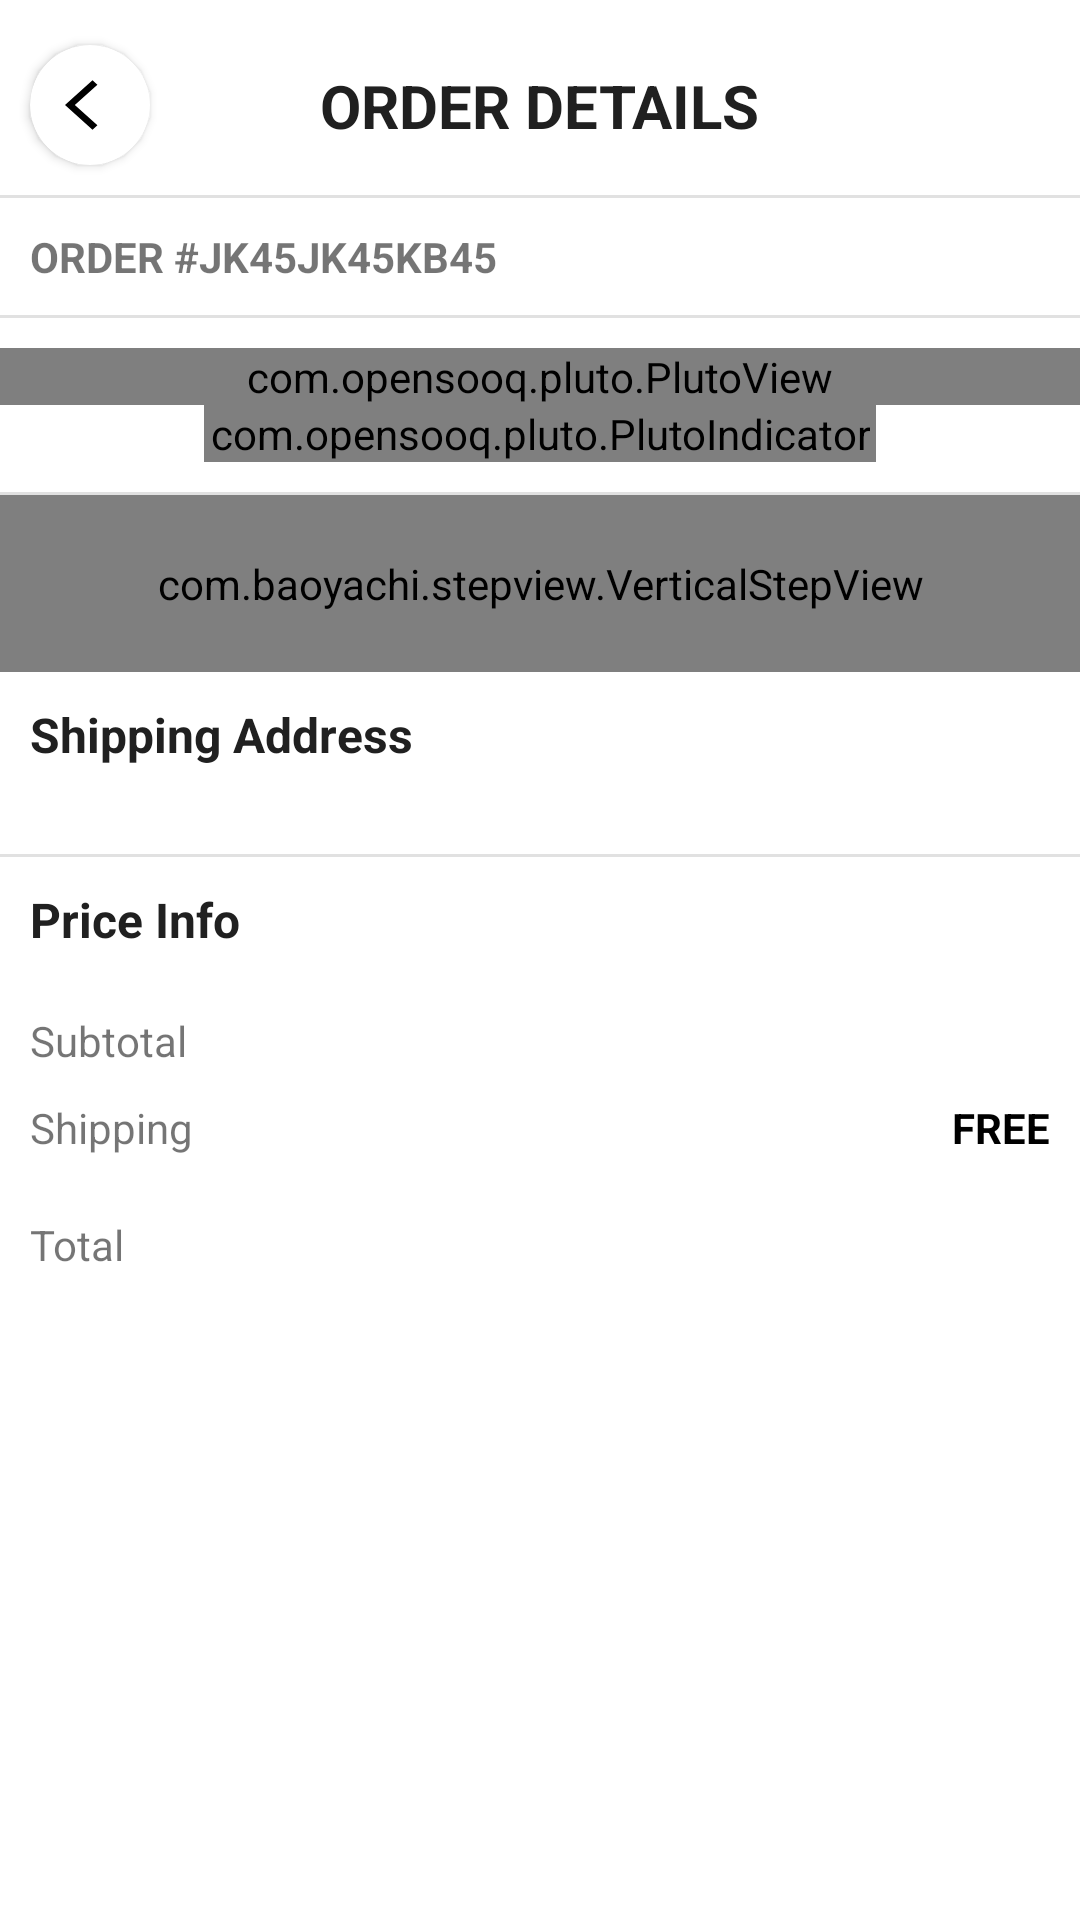

Icons on this 1080px×1920px Android screen, each with its box as (x1, y1, x2, y2):
back: (65, 80, 98, 130)
